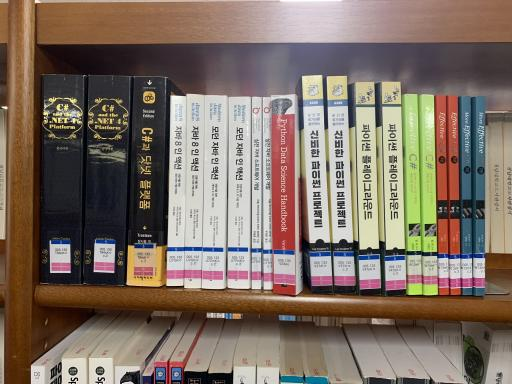book-spine: (84, 76, 131, 285), (41, 74, 85, 285), (126, 76, 167, 286), (302, 75, 334, 293), (327, 76, 356, 294), (355, 82, 382, 296), (382, 81, 406, 296), (272, 95, 296, 295), (203, 95, 227, 289), (228, 97, 251, 289), (184, 94, 204, 289), (166, 96, 186, 286), (405, 94, 422, 294), (422, 94, 437, 294), (447, 95, 461, 295), (436, 95, 449, 295), (460, 96, 473, 295), (475, 96, 486, 296), (263, 97, 273, 290), (251, 97, 261, 289)
